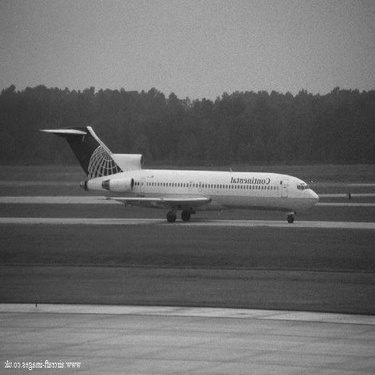airplane: (33, 115, 325, 229)
